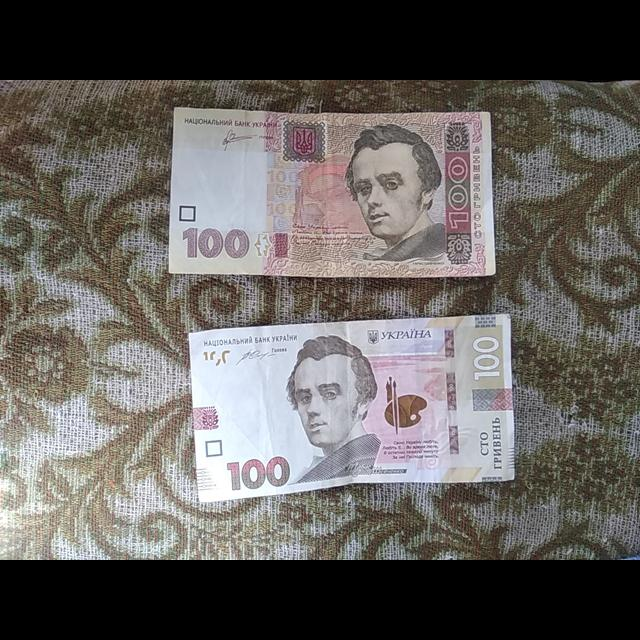100uah: (188, 312, 517, 502), (170, 107, 497, 275)
